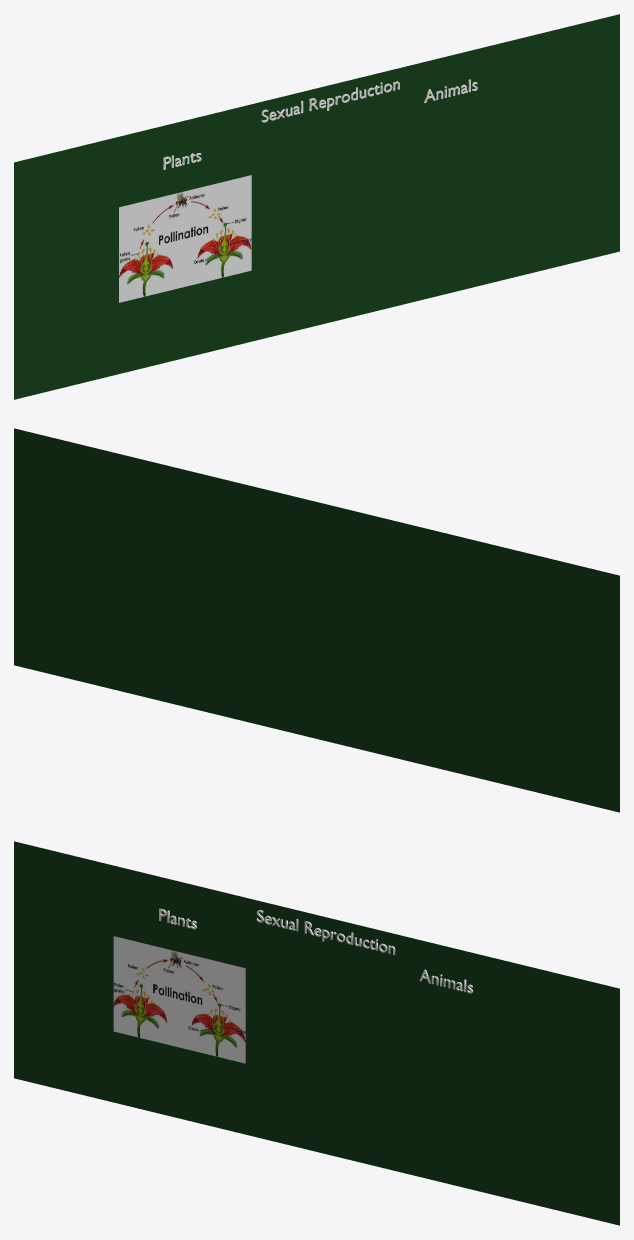
Rendered from poli.gltf.
The picture shows the model from 3 angles, top to bottom: view 1: azimuth 30°, elevation 25°; view 2: azimuth 150°, elevation 25°; view 3: azimuth 330°, elevation 25°; orthographic projection.
Parts seen in each view (by area): view 1: Plane.013, Plane, Text.001; view 2: Plane.013; view 3: Plane.013, Plane, Text.001.
Part boxes in pixels (box(x1,y1,x2,y2)): Plane.013: box(14, 14, 619, 399); Plane: box(119, 175, 251, 302); Text.001: box(261, 81, 399, 122); Plane.013: box(14, 428, 619, 812); Plane.013: box(14, 841, 619, 1225); Plane: box(113, 936, 245, 1063); Text.001: box(256, 910, 395, 954).
Size of the model in its own units: 15.94 by 5.96 by 0.1459.
Materials: 5 (1 with a texture image).
